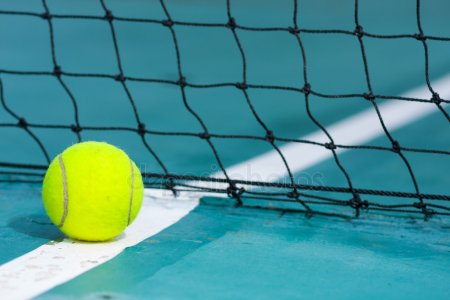tennis_ball: (43, 140, 146, 246)
